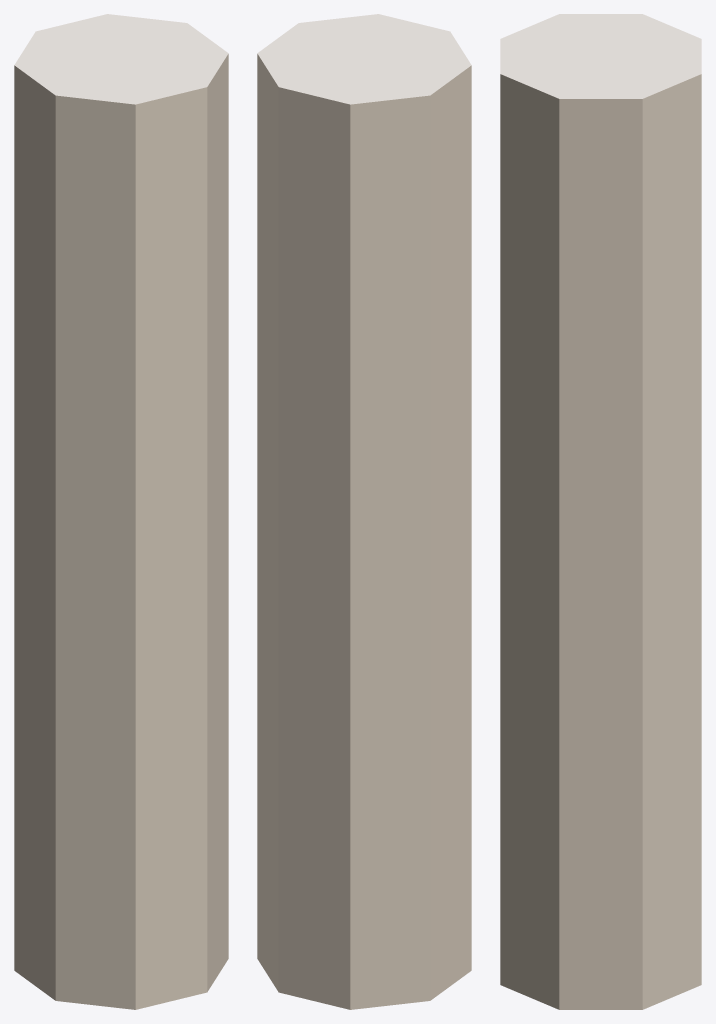
The model's file is Wall_End_Middle.glb.
The picture shows the model from 3 angles, left to right: view 1: azimuth 30°, elevation 25°; view 2: azimuth 150°, elevation 25°; view 3: azimuth 270°, elevation 25°; orthographic projection.
Parts seen in each view (by area): view 1: Wall_End_Middle; view 2: Wall_End_Middle; view 3: Wall_End_Middle.
Part boxes in pixels (x1,y1,x2,y2): Wall_End_Middle: [14, 14, 228, 1009]; Wall_End_Middle: [257, 14, 471, 1009]; Wall_End_Middle: [500, 14, 701, 1009].
Bounding box in the file's own units: 0.09 × 0.45 × 0.09.
